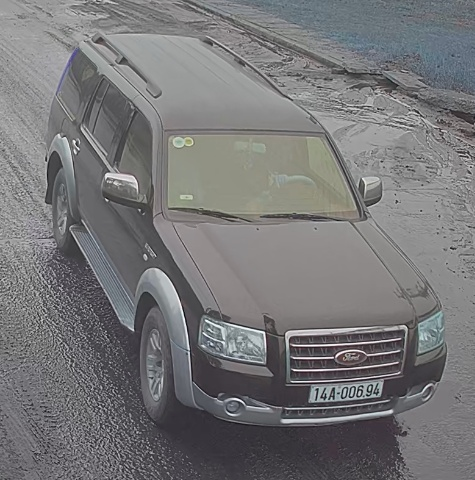vehicle plate: (306, 378, 391, 411)
